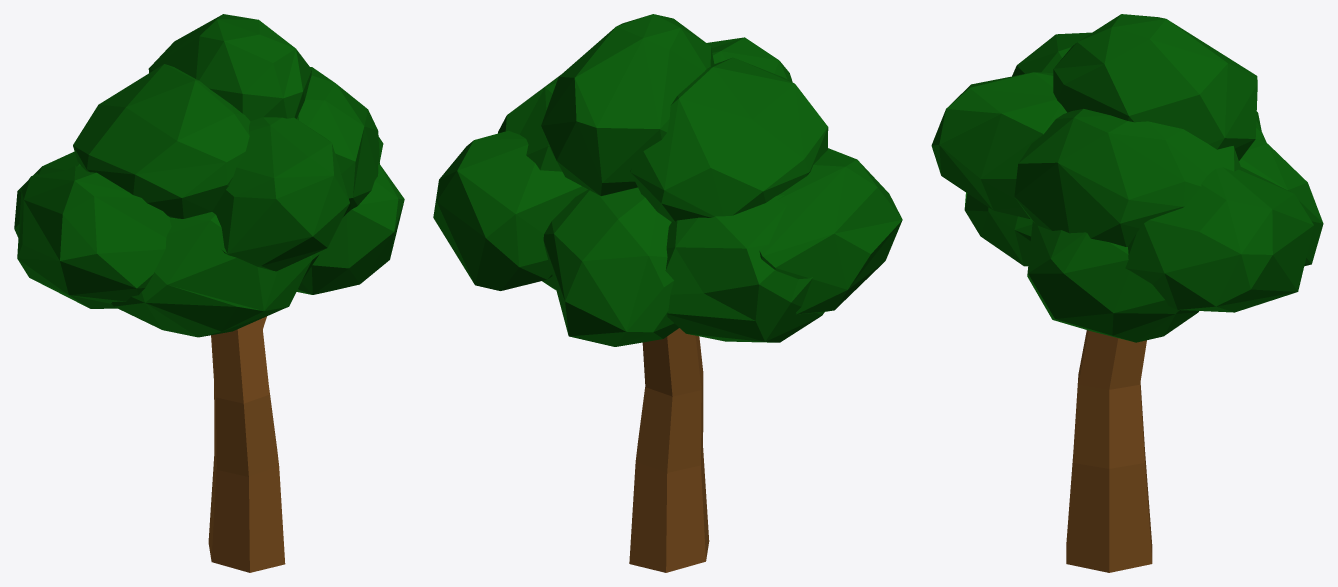
Rendered from BigTree.fbx.
3 renders of one model, left to right at view 1: azimuth 30°, elevation 25°; view 2: azimuth 150°, elevation 25°; view 3: azimuth 270°, elevation 25°, orthographic. The views are drawn at different scales.
Parts seen in each view (by area): view 1: polySurface54; view 2: polySurface54; view 3: polySurface54.
Part boxes in pixels (x1,y1,x2,y2): polySurface54: [14, 14, 404, 572]; polySurface54: [433, 14, 902, 572]; polySurface54: [931, 14, 1323, 572].
Bounding box in the file's own units: 5.37 × 7.09 × 4.71.
Materials: 1 (1 with a texture image).
